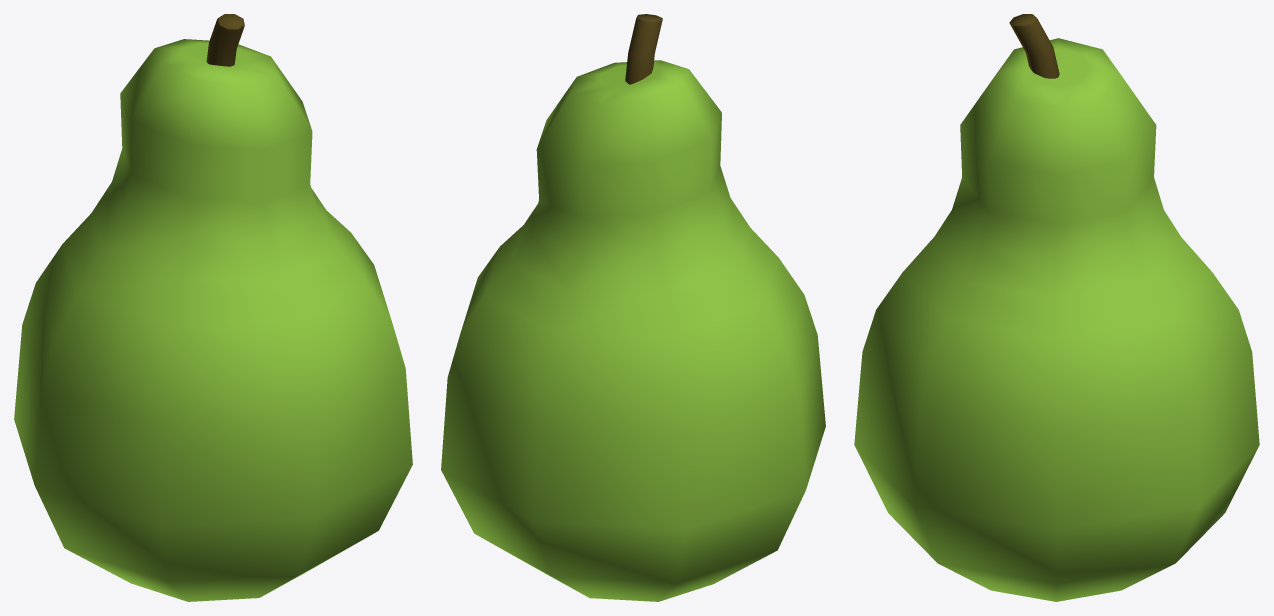
The model's file is SM_Pear.fbx.
The picture shows the model from 3 angles, left to right: view 1: azimuth 30°, elevation 25°; view 2: azimuth 150°, elevation 25°; view 3: azimuth 270°, elevation 25°; orthographic projection. The views are drawn at different scales.
Parts seen in each view (by area): view 1: SM_Pear; view 2: SM_Pear; view 3: SM_Pear.
Boxes of the visible parts, x1,y1,x2,y2 form: SM_Pear: (14, 14, 412, 601); SM_Pear: (441, 14, 825, 601); SM_Pear: (854, 14, 1259, 601).
Size of the model in its own units: 12.32 by 12.32 by 18.34.
1 material, 1 textured.
